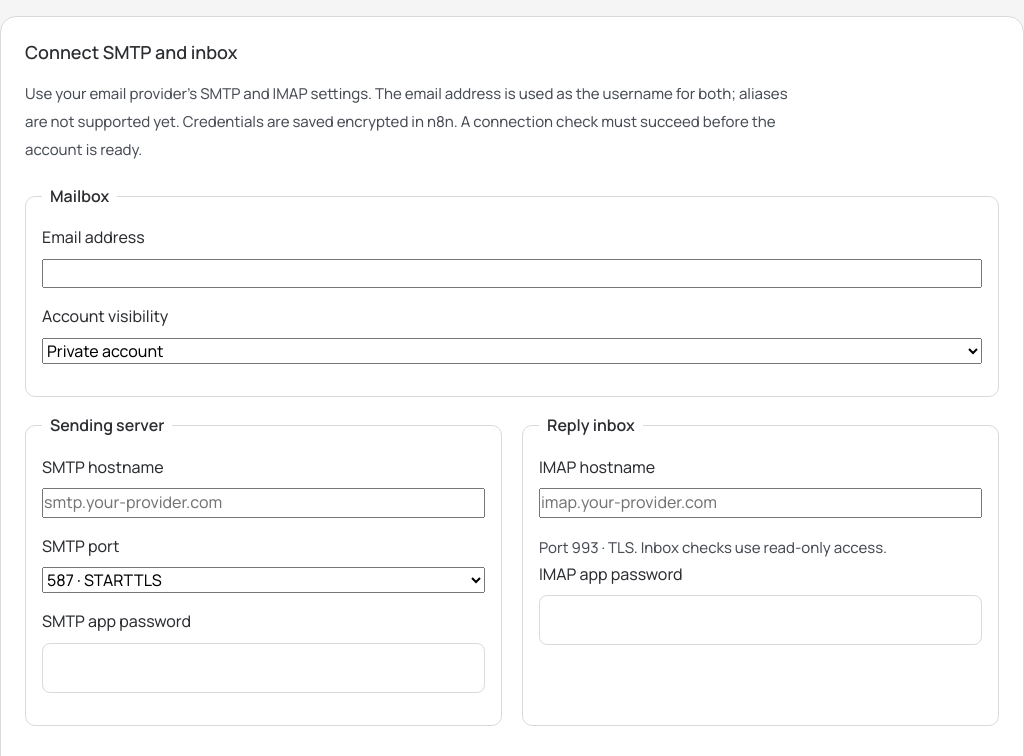
Test case: saving uses canonical mailbox inputs, clears passwords and never stores them in browser storage
In the field labelled "Email address": (512, 274) 42,259 -> 982,288, type "fixture@example.org"
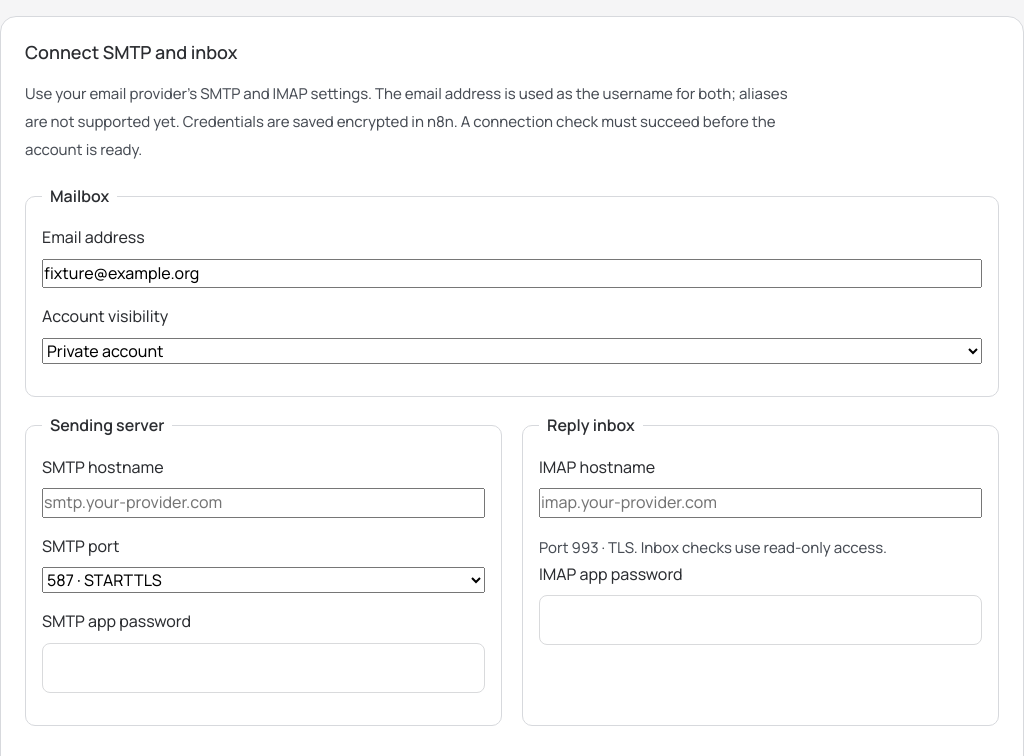
In the field labelled "SMTP hostname": (264, 503) 42,488 -> 485,518, type "smtp.example.org"
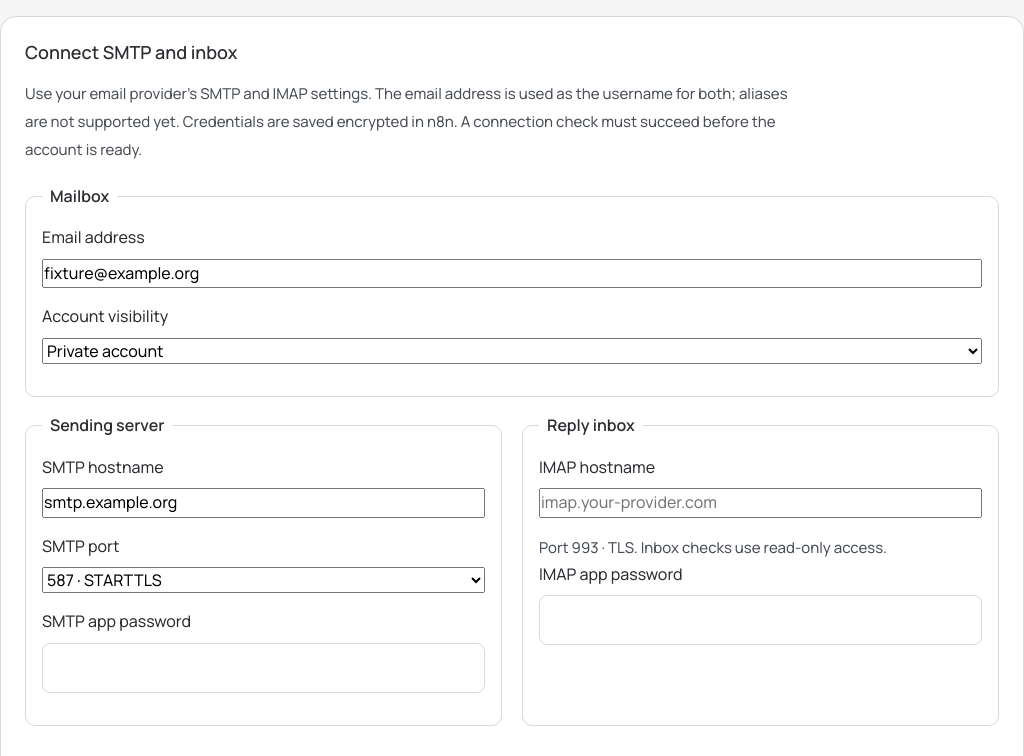
In the password field labelled "SMTP app password": (264, 668) 42,643 -> 485,693, type "SMTP_SECRET"
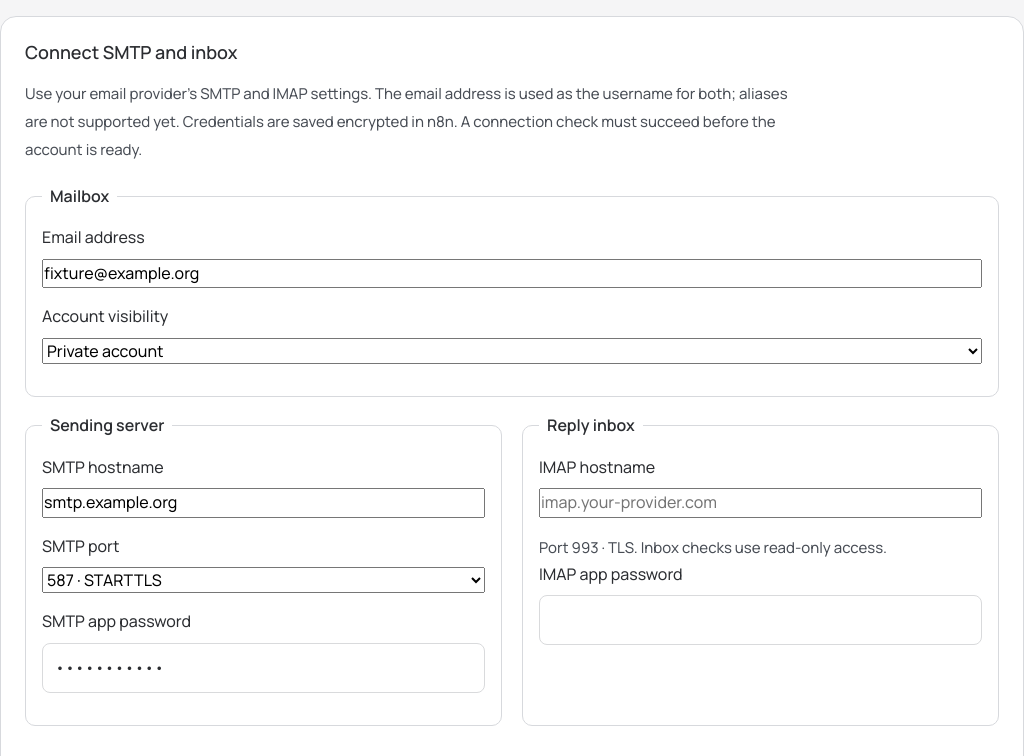
In the field labelled "IMAP hostname": (760, 503) 539,488 -> 982,518, type "imap.example.org"
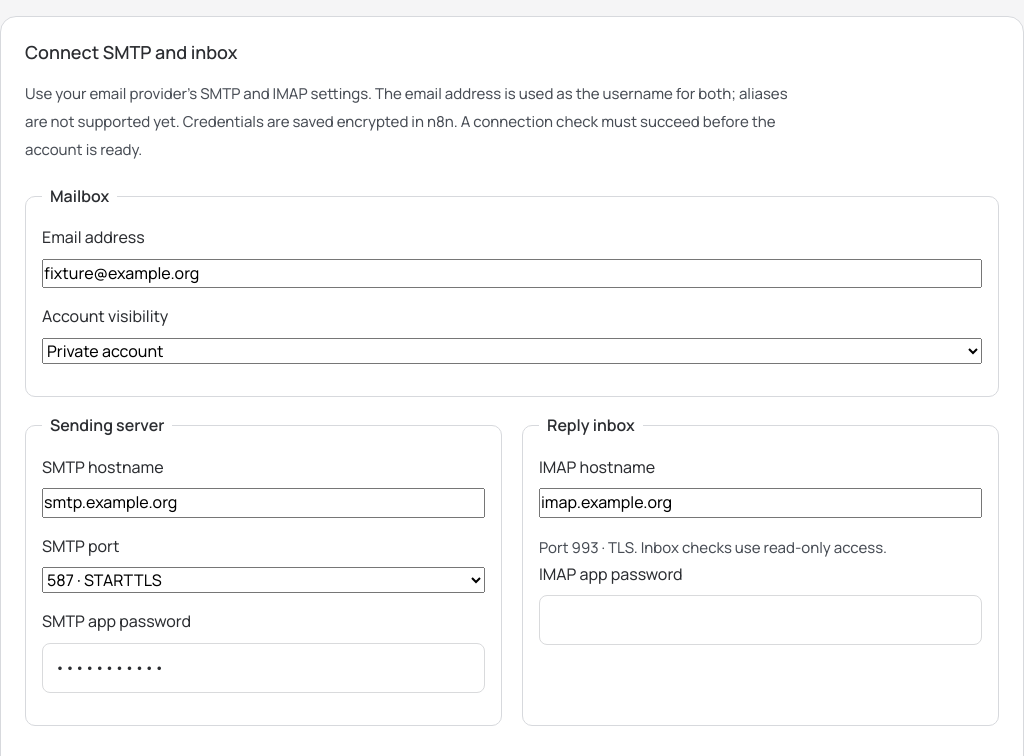
In the password field labelled "IMAP app password": (760, 620) 539,595 -> 982,645, type "IMAP_SECRET"
(page scrolled)
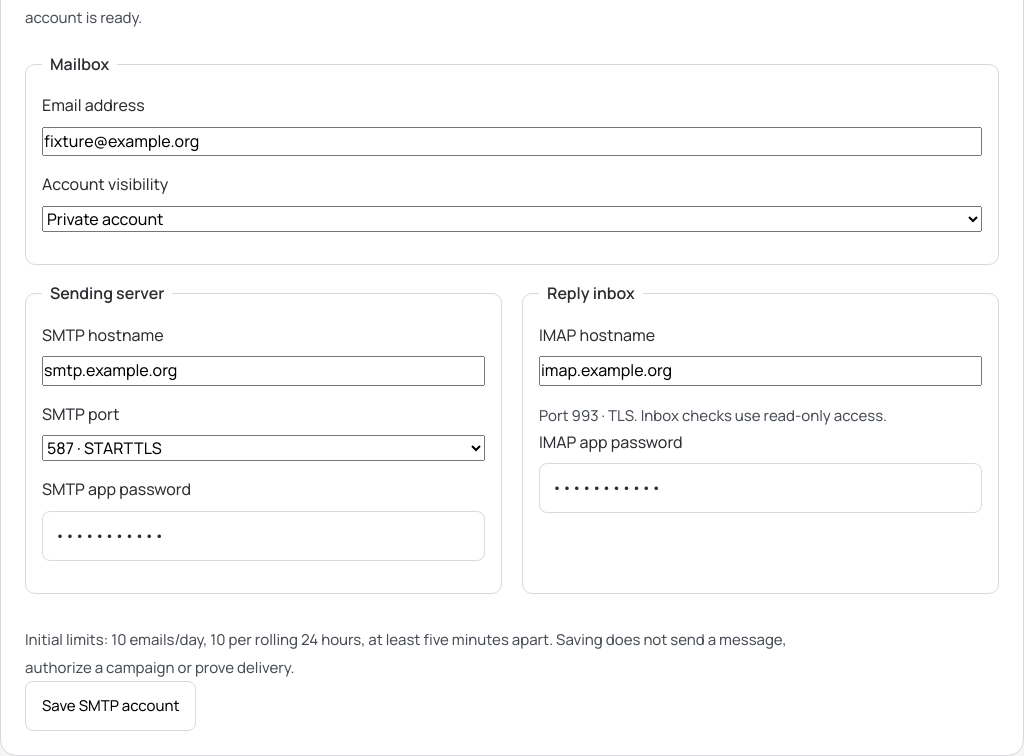
Submit the form
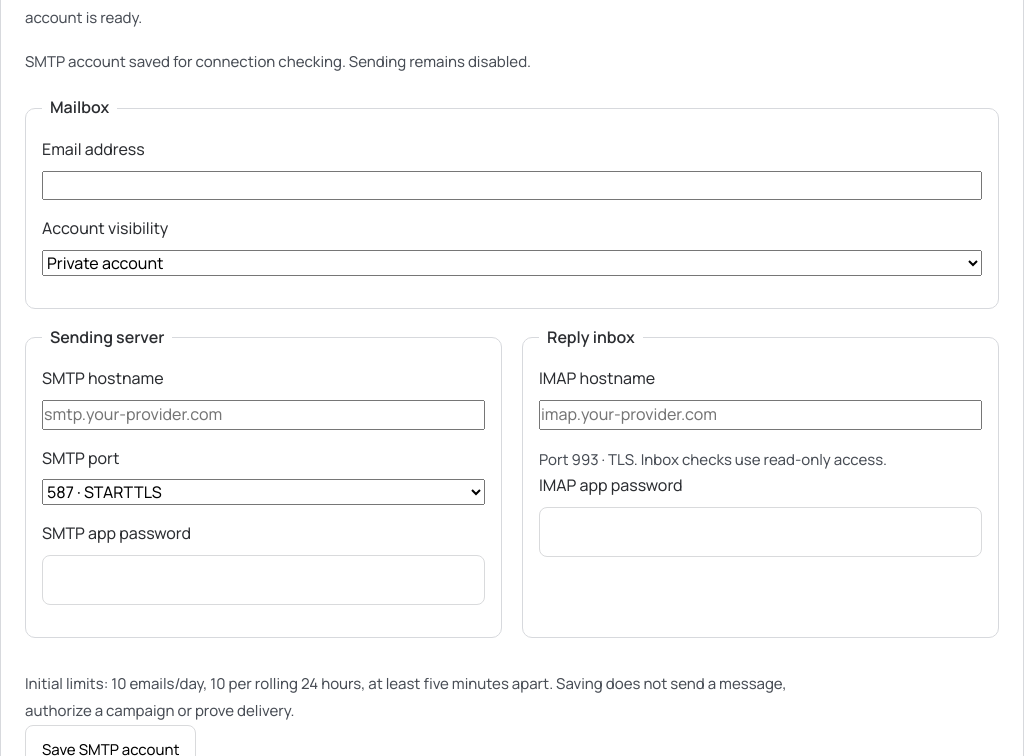
Expected: the password field named "smtp_password" is empty, 42,555 -> 485,605
Expected: the text "saved for connection checking" is shown, 25,51 -> 531,72
